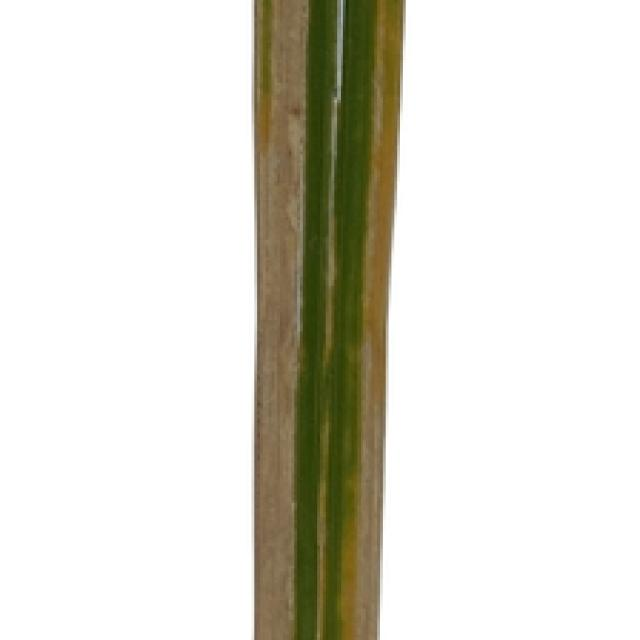Rice___Bacterial_Leaf_Blight: (252, 0, 407, 637)
